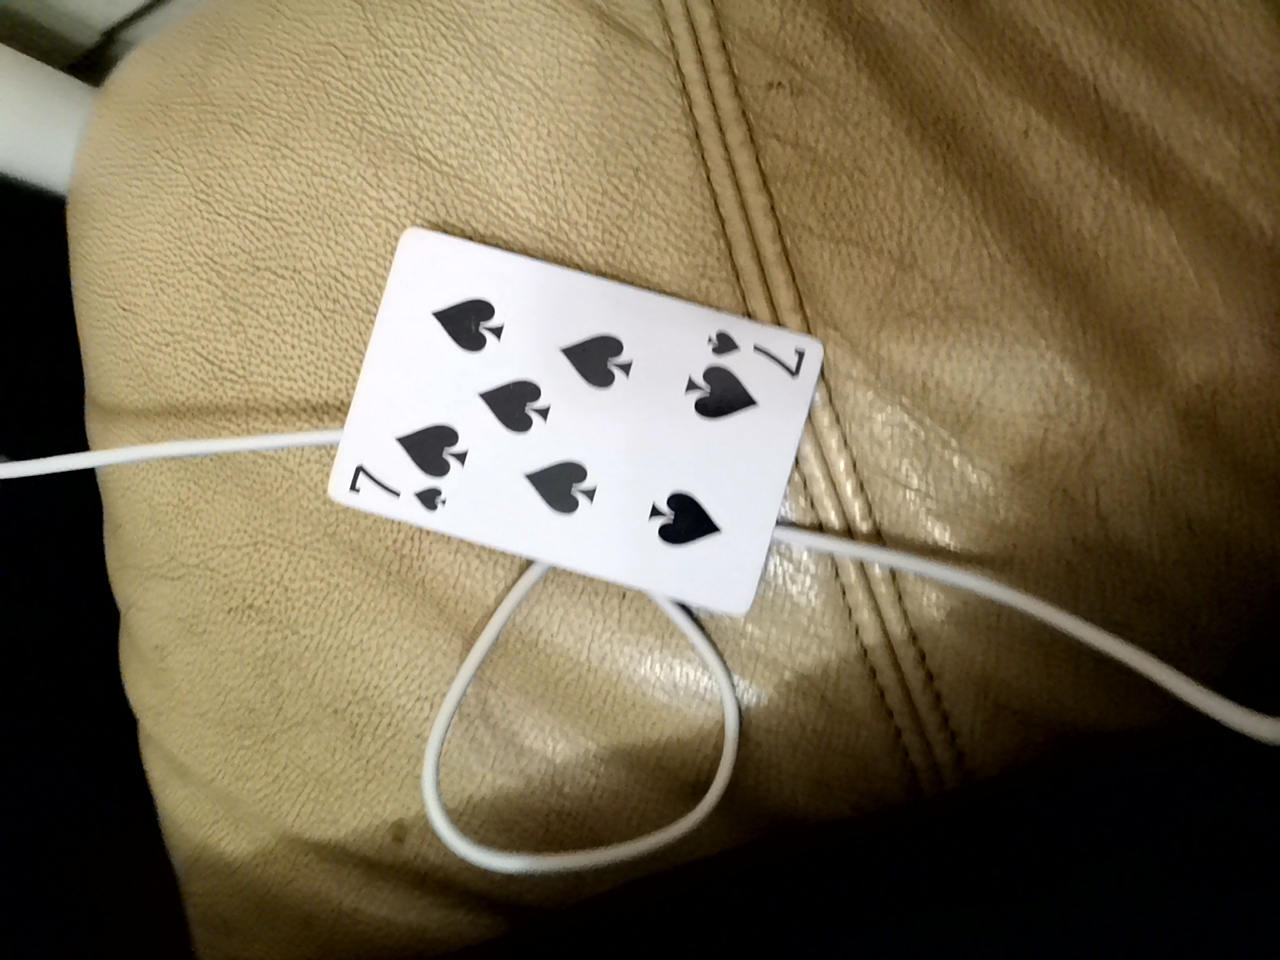ht 7: (358, 247, 845, 637)
